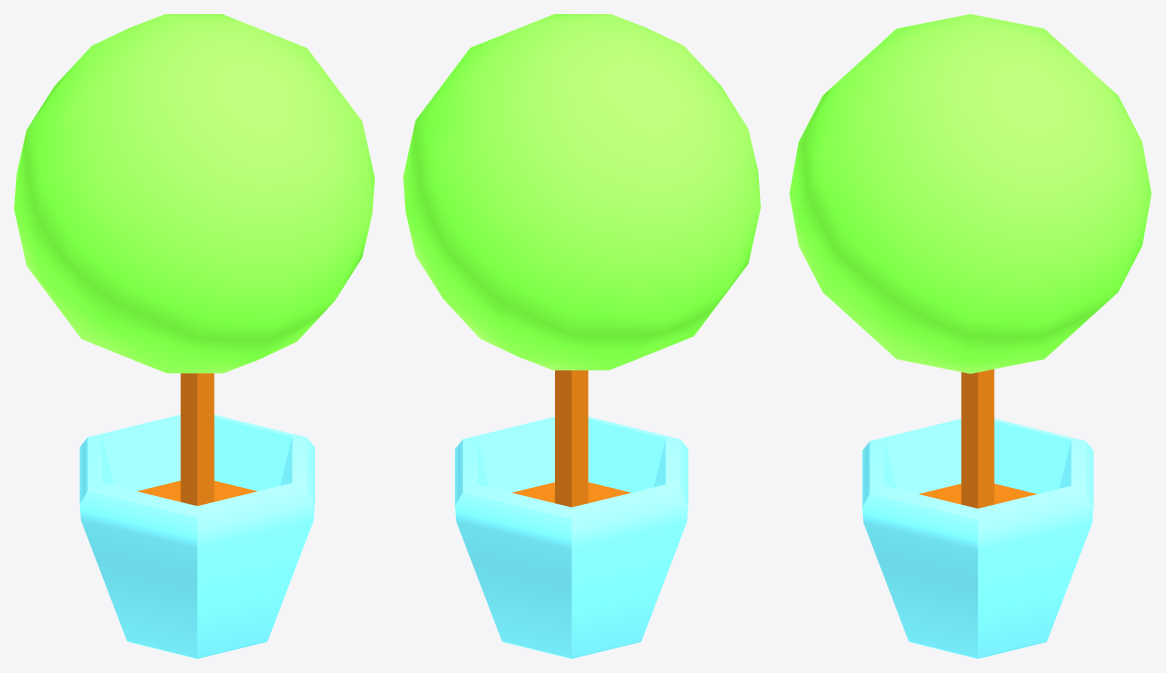
File: Plant3.fbx
3 renders of one model, left to right at view 1: azimuth 30°, elevation 25°; view 2: azimuth 150°, elevation 25°; view 3: azimuth 270°, elevation 25°, orthographic.
Parts seen in each view (by area): view 1: Plant2; view 2: Plant2; view 3: Plant2.
Boxes of the visible parts, x1=… form: Plant2: x1=14, y1=14, x2=374, y2=658; Plant2: x1=403, y1=14, x2=760, y2=658; Plant2: x1=789, y1=14, x2=1151, y2=658.
Bounding box in the file's own units: 200 × 361 × 200.
